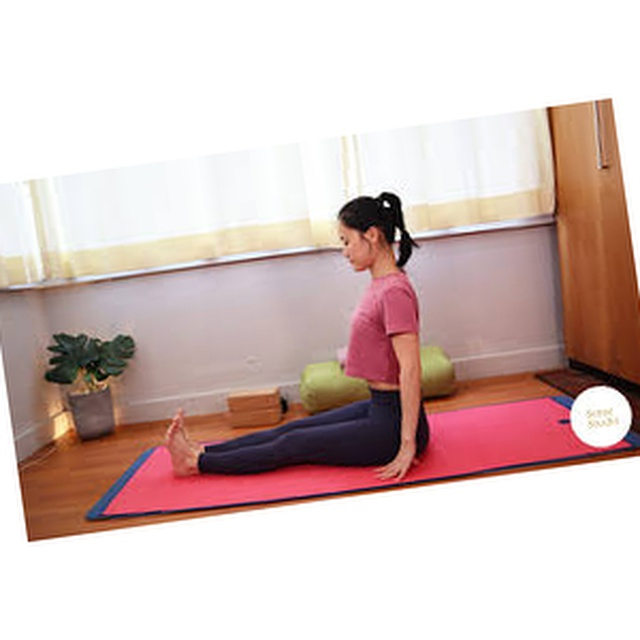Staff_Pose: (164, 190, 432, 485)
